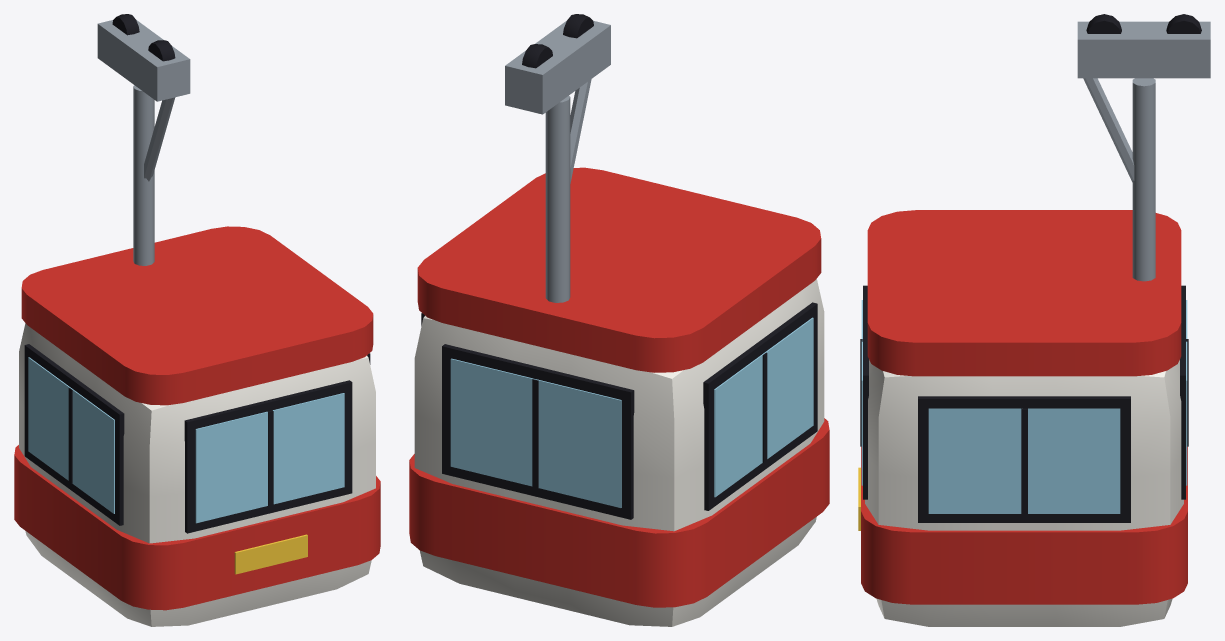
Rendered from cable_car.glb.
3 renders of one model, left to right at view 1: azimuth 30°, elevation 25°; view 2: azimuth 150°, elevation 25°; view 3: azimuth 270°, elevation 25°, orthographic. The views are drawn at different scales.
Parts seen in each view (by area): view 1: cable_car; view 2: cable_car; view 3: cable_car.
Boxes of the visible parts, bbox=[...] form: cable_car: bbox=[14, 14, 380, 626]; cable_car: bbox=[409, 14, 829, 626]; cable_car: bbox=[858, 14, 1210, 626].
Bounding box in the file's own units: 2.47 × 4.66 × 2.65.
